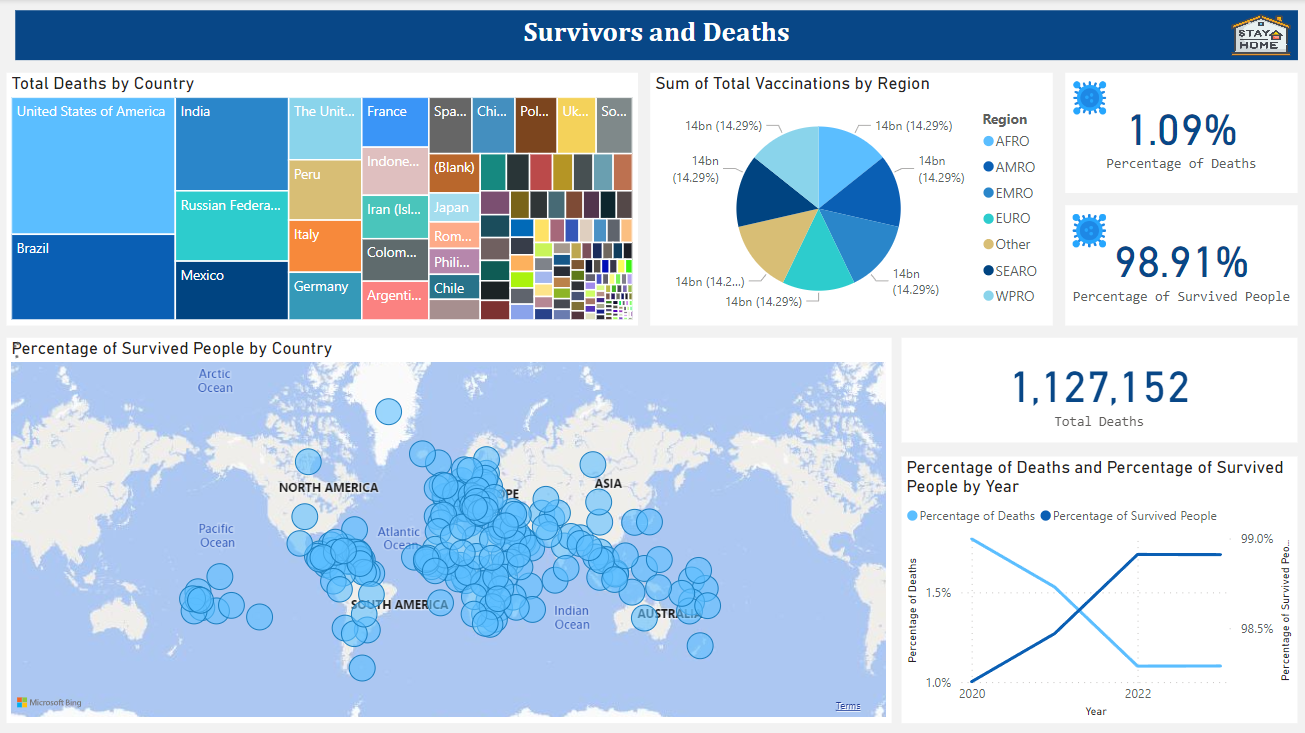

The dashboard page shown, as its layout file describes it:
{"tool":"powerbi","page":{"name":"Survivors & deaths","canvas":[1280,720],"ordinal":1},"visuals":[{"type":"textbox","box":[15.9,11,1254.2,48.9],"z":0},{"type":"card","fields":{"Values":["Calculations.Percentage of Survived People"]},"box":[1042.7,201.7,227.4,117.4],"z":1000},{"type":"card","fields":{"Values":["Calculations.Percentage of Death"]},"box":[1042.7,72.1,227.4,117.4],"z":2000},{"type":"pieChart","fields":{"Y":["Sum(FactVaccination-data.TOTAL_VACCINATIONS)"],"Category":["DimWho_COVIDE_19_global_data.Region"]},"box":[636.9,72.1,393.6,246.9],"z":3000},{"type":"lineChart","fields":{"Y":["Calculations.Percentage of Death"],"Category":["DimWho_COVIDE_19_global_data.Year"],"Y2":["Calculations.Percentage of Survived People"]},"box":[883.1,447.5,386.9,260.6],"z":4000},{"type":"treemap","fields":{"Values":["Calculations.Sum of Death"],"Group":["FactVaccination-data.COUNTRY"]},"box":[7.3,72.1,617.3,246.9],"z":5000},{"type":"map","fields":{"Category":["FactVaccination-data.COUNTRY"],"Size":["Calculations.Percentage of Survived People"]},"box":[7.3,331.3,865.5,376.5],"z":6000},{"type":"card","fields":{"Values":["Calculations.Sum of Death"]},"box":[883.1,331.6,386.9,102.7],"z":7000}]}

Visuals, with their boxes in screenshot pixels (x1, y1, x2, y2), scaled from the page's 1280x720 canvas onto the 1305x733 screenshot:
textbox: (left=16, top=11, right=1295, bottom=61)
card - Calculations.Percentage of Survived People: (left=1063, top=205, right=1295, bottom=325)
card - Calculations.Percentage of Death: (left=1063, top=73, right=1295, bottom=193)
pieChart - Sum(FactVaccination-data.TOTAL_VACCINATIONS) x DimWho_COVIDE_19_global_data.Region: (left=649, top=73, right=1051, bottom=325)
lineChart - Calculations.Percentage of Death x DimWho_COVIDE_19_global_data.Year: (left=900, top=456, right=1295, bottom=721)
treemap - Calculations.Sum of Death x FactVaccination-data.COUNTRY: (left=7, top=73, right=637, bottom=325)
map - FactVaccination-data.COUNTRY x Calculations.Percentage of Survived People: (left=7, top=337, right=890, bottom=721)
card - Calculations.Sum of Death: (left=900, top=338, right=1295, bottom=442)
